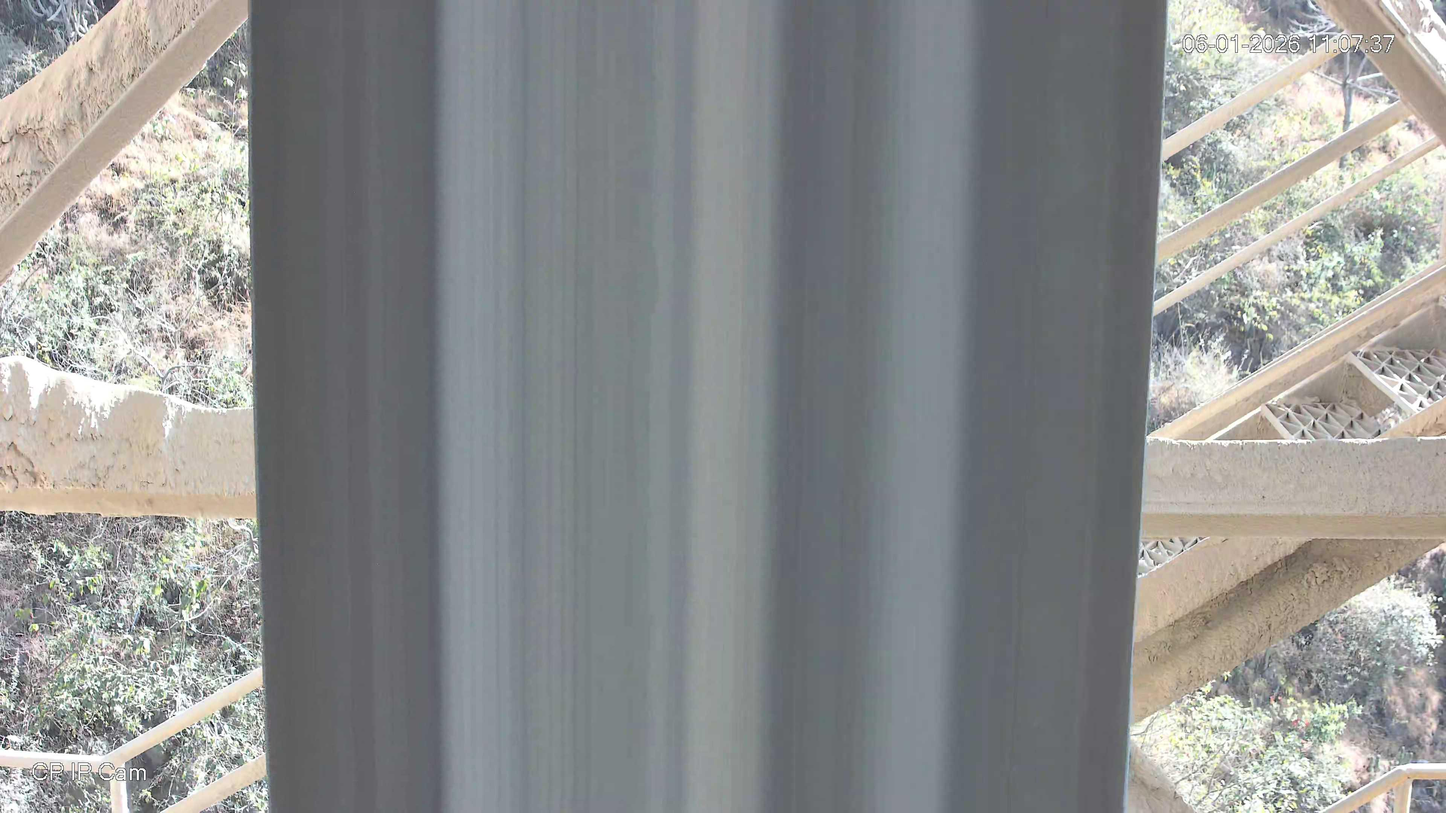belt_roi: (246, 0, 1164, 813)
